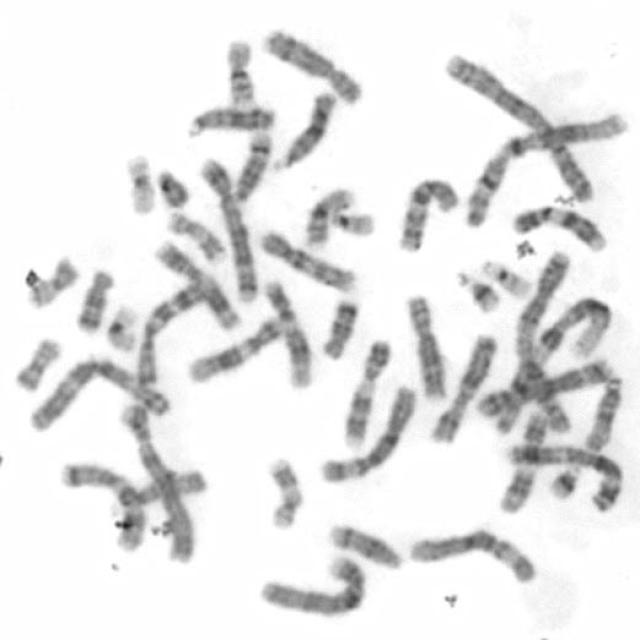A1: (458, 105, 632, 230), (489, 288, 618, 439)
A2: (437, 47, 602, 208), (507, 244, 575, 441)
A3: (23, 355, 171, 436), (498, 438, 626, 515)
B4: (116, 397, 200, 566), (255, 548, 368, 619)
B5: (194, 153, 261, 306), (473, 352, 618, 421)
C10: (254, 224, 361, 295), (392, 172, 461, 255)
C11: (148, 235, 244, 333), (493, 405, 550, 515)
C12: (182, 312, 285, 386), (259, 276, 316, 390)
C6: (315, 378, 420, 485), (406, 522, 540, 588)
C7: (55, 455, 150, 556), (131, 274, 210, 388)
C8: (259, 22, 366, 106), (399, 288, 450, 402)
C9: (339, 334, 394, 450), (505, 197, 610, 255)
D13: (268, 87, 338, 172), (180, 99, 278, 140)
D14: (323, 516, 404, 572), (227, 126, 273, 203)
D15: (106, 467, 211, 519), (579, 371, 624, 454)
E16: (300, 180, 357, 247), (220, 33, 259, 109)
E17: (164, 206, 228, 266), (260, 450, 306, 531)
E18: (68, 262, 116, 335), (316, 292, 362, 361)
F19: (118, 147, 158, 218), (102, 298, 140, 354)
F20: (18, 251, 82, 311), (10, 332, 65, 394)
G21: (452, 267, 502, 314), (543, 461, 583, 502)
G22: (476, 254, 530, 298), (326, 203, 379, 239)
X: (425, 327, 499, 445)
Y: (153, 163, 193, 210)
